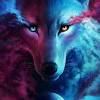Lobo: (13, 1, 87, 86)
